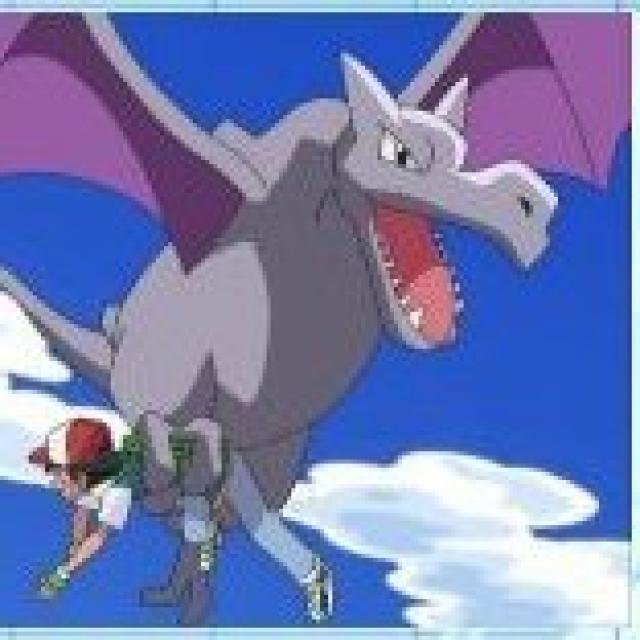Aerodactyl: (111, 11, 566, 418)
